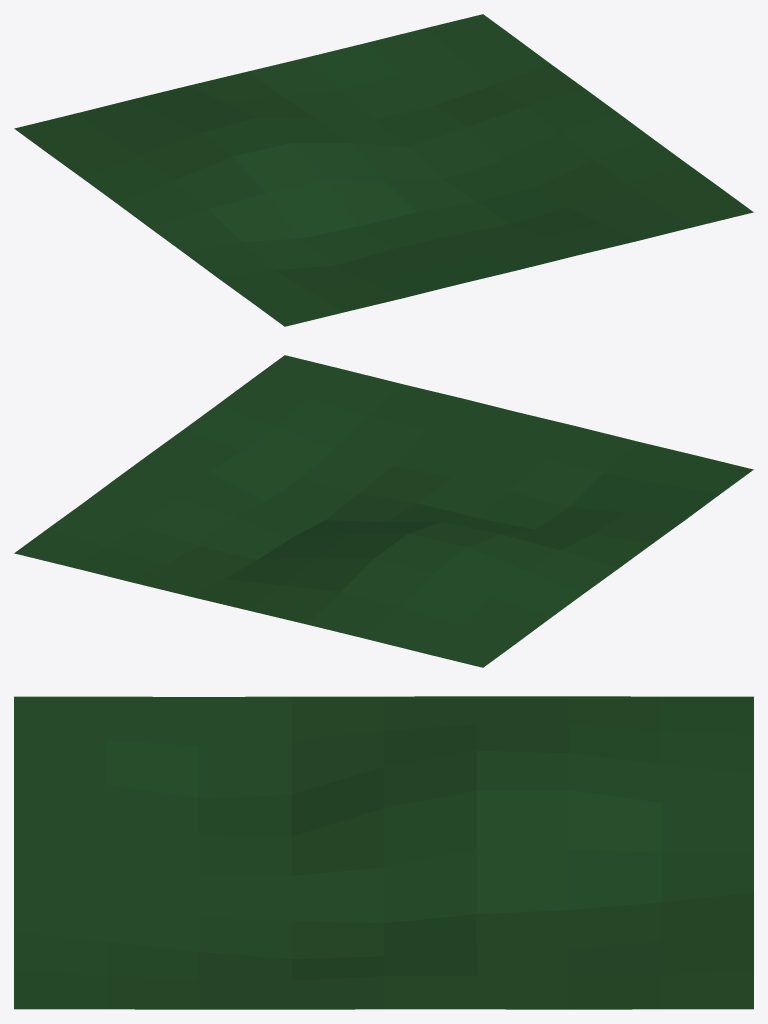
The model's file is Terrain_18_Dark_Green.fbx.
3 renders of one model, top to bottom at view 1: azimuth 30°, elevation 25°; view 2: azimuth 150°, elevation 25°; view 3: azimuth 270°, elevation 25°, orthographic. The views are drawn at different scales.
Parts seen in each view (by area): view 1: Terrain_18_Dark_Green; view 2: Terrain_18_Dark_Green; view 3: Terrain_18_Dark_Green.
Boxes of the visible parts, x1,y1,x2,y2 form: Terrain_18_Dark_Green: (14, 14, 753, 326); Terrain_18_Dark_Green: (14, 355, 753, 667); Terrain_18_Dark_Green: (14, 696, 753, 1009).
Bounding box in the file's own units: 7000 × 580 × 7000.
